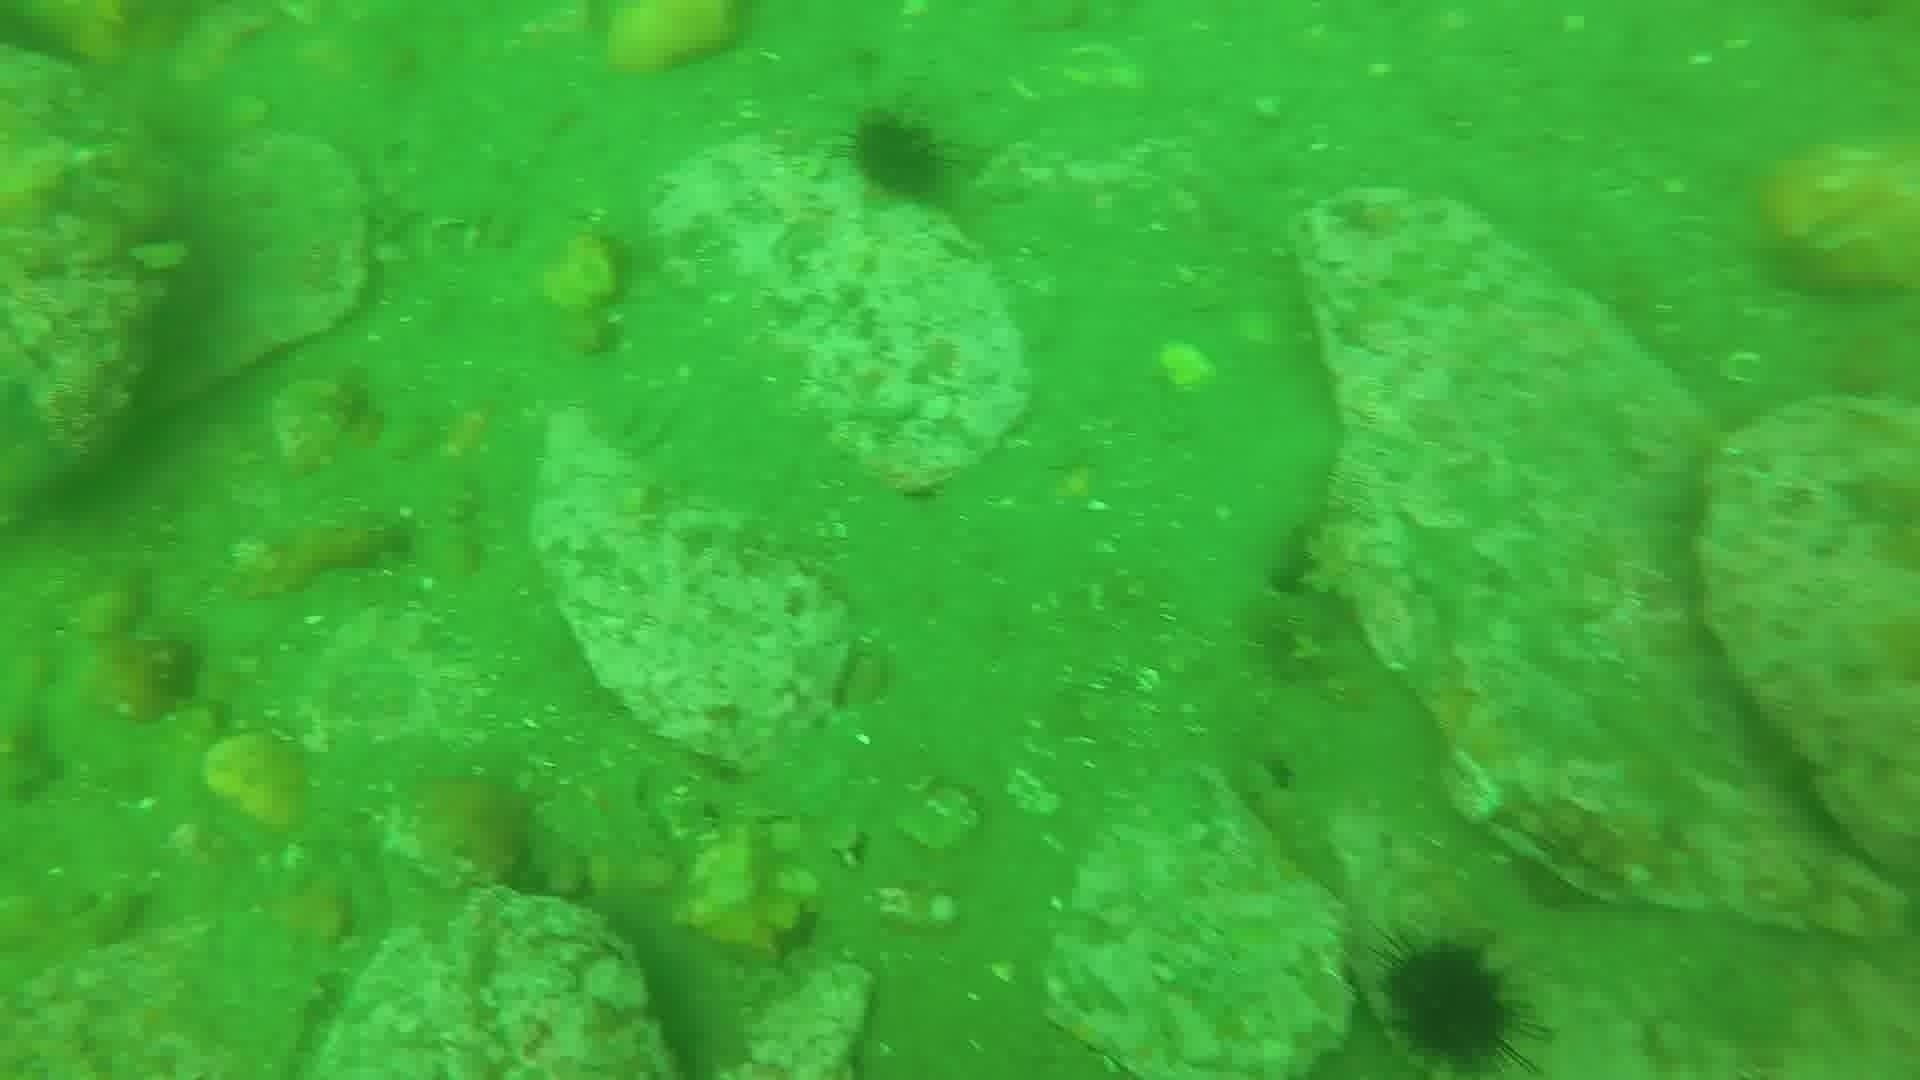echinus: (1375, 934, 1534, 1069), (843, 107, 952, 210)
